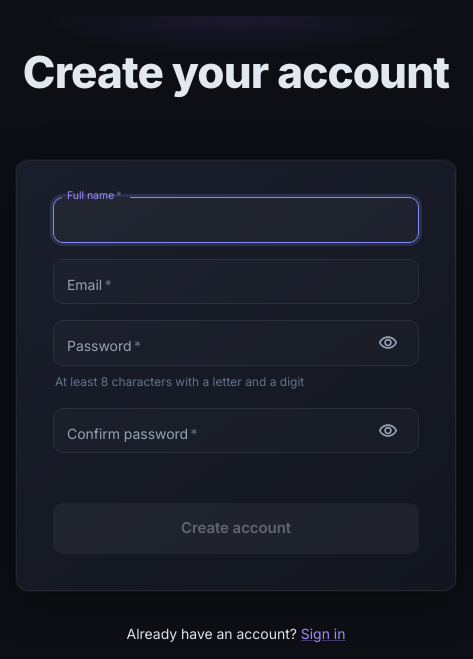
Scenario: RegisterPage › shows check-inbox screen after successful registration
Type "Alice" into the field labelled "Full name *" at (236, 220), box [53,197,419,243]
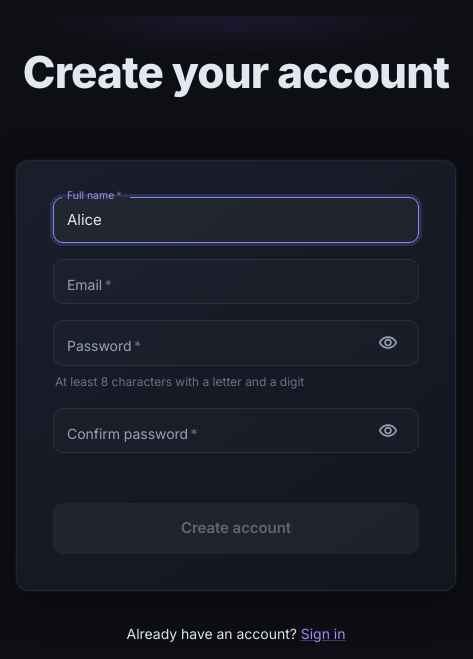
Type "alice@example.com" into the field labelled "Email *" at (236, 282), box [53,259,419,304]
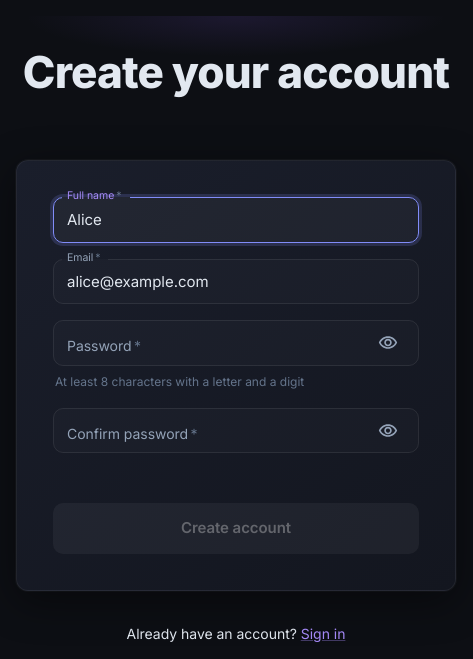
Type "Password1!" into the password field labelled "Password *" at (209, 343), box [53,320,365,366]
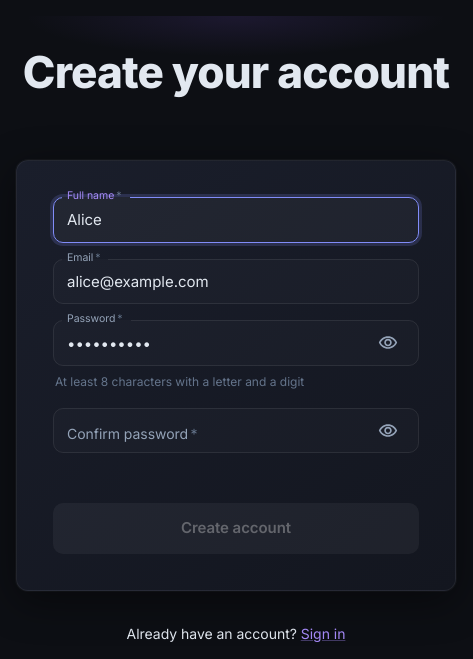
Type "Password1!" into the password field labelled "Confirm password *" at (209, 431), box [53,408,365,453]
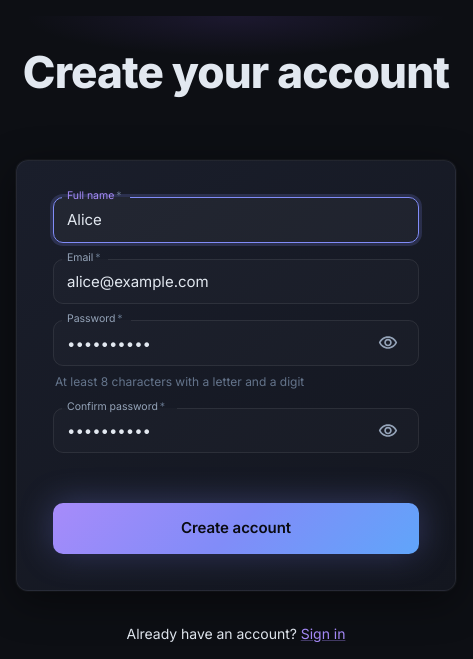
Click the button "Create account" at (236, 528), box [53,503,419,554]
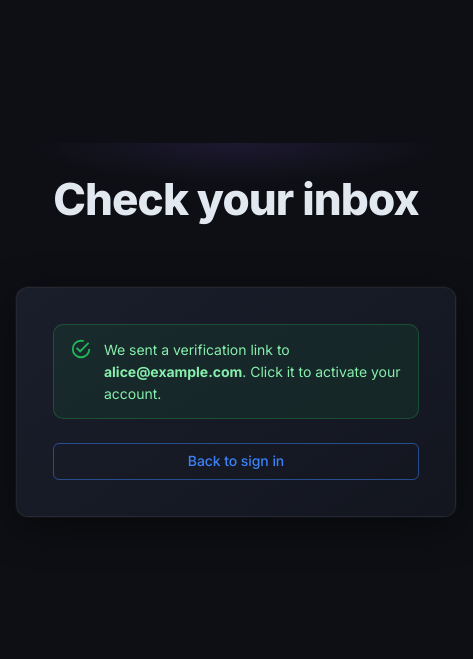
Expected: the heading "Check your inbox" is shown, [53,172,419,226]
